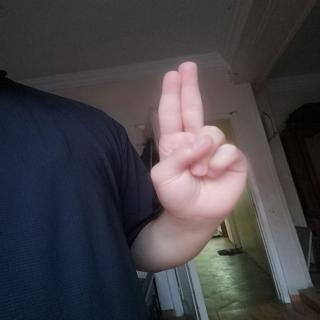TA: (146, 49, 260, 245)
